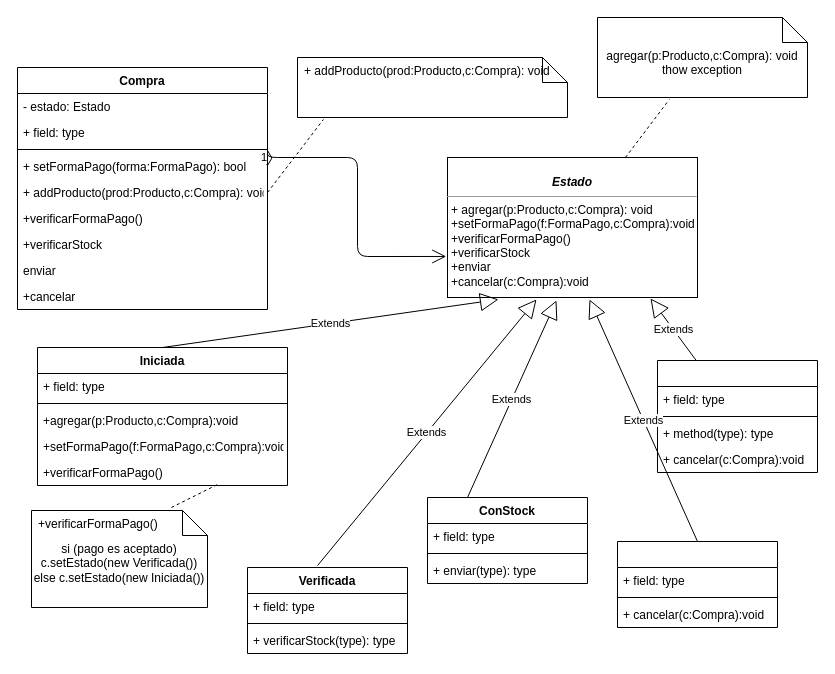
This 835x674 diagram has some shape labels left out. Each missing label, with the box of its shape:
Cancelada: (656, 360, 818, 472)
Enviada: (616, 540, 778, 628)
estado.agregar(prod,this);: (296, 56, 568, 118)
